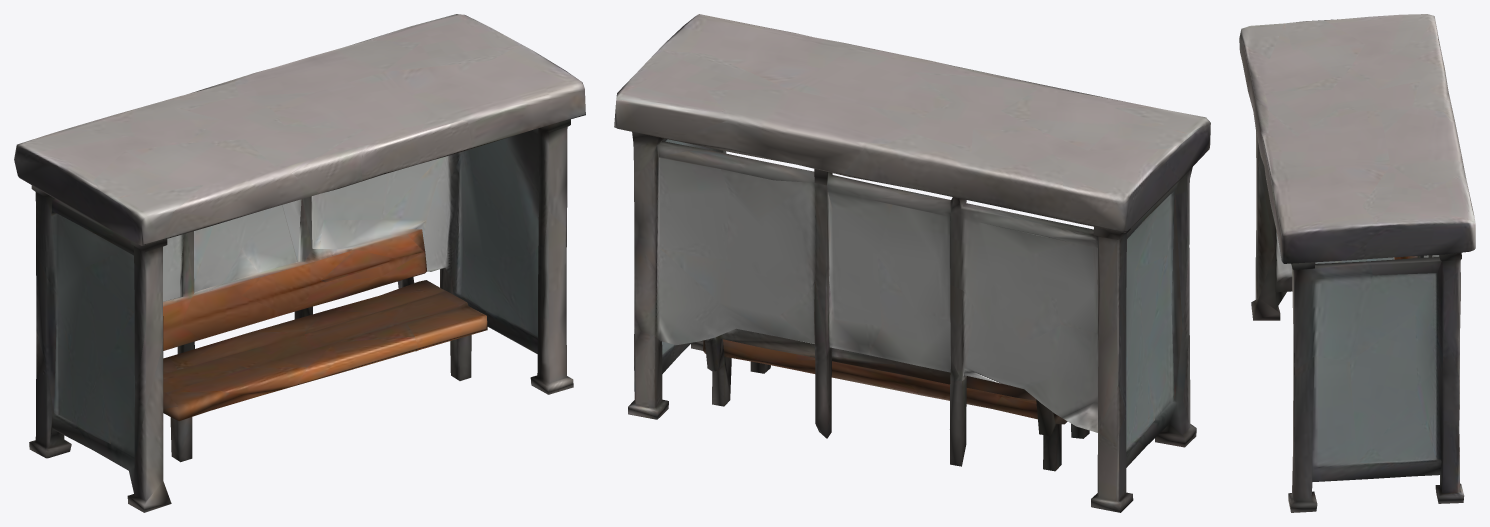
The model's file is busstop.glb.
3 renders of one model, left to right at view 1: azimuth 30°, elevation 25°; view 2: azimuth 150°, elevation 25°; view 3: azimuth 270°, elevation 25°, orthographic. The views are drawn at different scales.
Visible parts, largest first — view 1: tripo_node_01a21d85-754e-7434-99e7-82682e68cf31; view 2: tripo_node_01a21d85-754e-7434-99e7-82682e68cf31; view 3: tripo_node_01a21d85-754e-7434-99e7-82682e68cf31.
Boxes of the visible parts, x1,y1,x2,y2 form: tripo_node_01a21d85-754e-7434-99e7-82682e68cf31: (14, 14, 585, 512); tripo_node_01a21d85-754e-7434-99e7-82682e68cf31: (614, 14, 1210, 512); tripo_node_01a21d85-754e-7434-99e7-82682e68cf31: (1239, 14, 1475, 512).
Size of the model in its own units: 3.96 by 2.4 by 1.79.
1 material, 1 textured.
